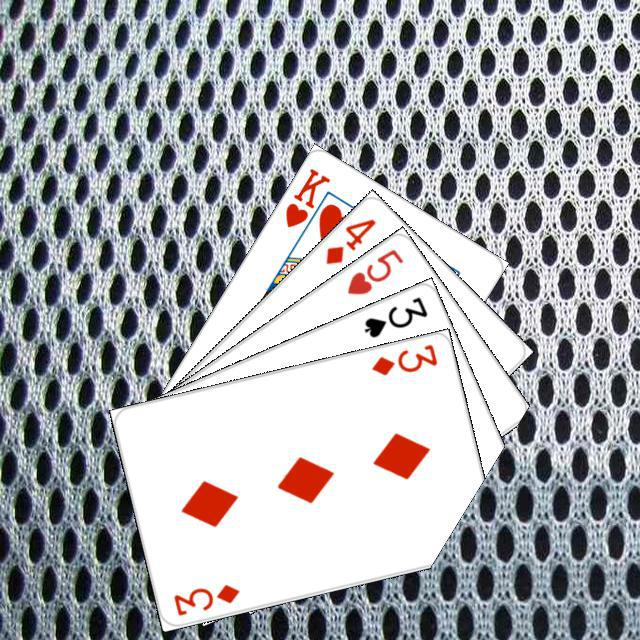3d: (168, 579, 241, 618), (366, 339, 439, 377)
3s: (359, 292, 429, 340)
4d: (320, 214, 378, 266)
5h: (342, 244, 405, 297)
Kh: (280, 163, 335, 243)
